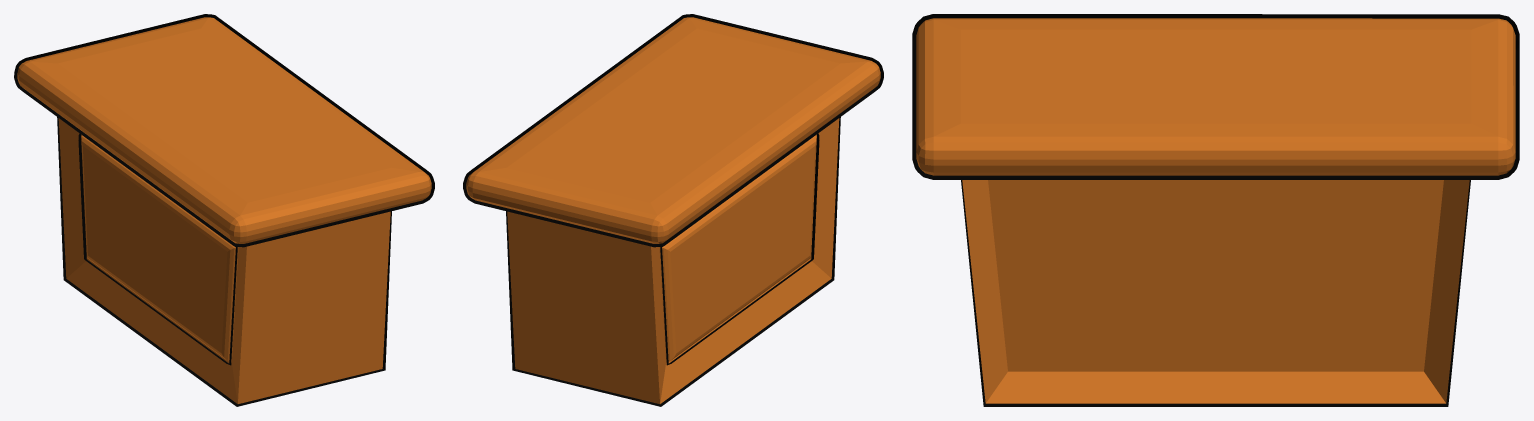
The model's file is BalcaoCaixaRegi.fbx.
The picture shows the model from 3 angles, left to right: view 1: azimuth 30°, elevation 25°; view 2: azimuth 150°, elevation 25°; view 3: azimuth 270°, elevation 25°; orthographic projection. The views are drawn at different scales.
Visible parts, largest first — view 1: balcao caixa registradora, backface balcao caixa; view 2: balcao caixa registradora, backface balcao caixa; view 3: balcao caixa registradora, backface balcao caixa.
Part boxes in pixels (x1,y1,x2,y2): balcao caixa registradora: [17, 17, 431, 403]; backface balcao caixa: [14, 14, 434, 406]; balcao caixa registradora: [466, 17, 880, 403]; backface balcao caixa: [463, 14, 883, 406]; balcao caixa registradora: [916, 18, 1515, 403]; backface balcao caixa: [912, 14, 1519, 406].
Bounding box in the file's own units: 1.11 × 2.11 × 1.09.
2 materials, 1 textured.
